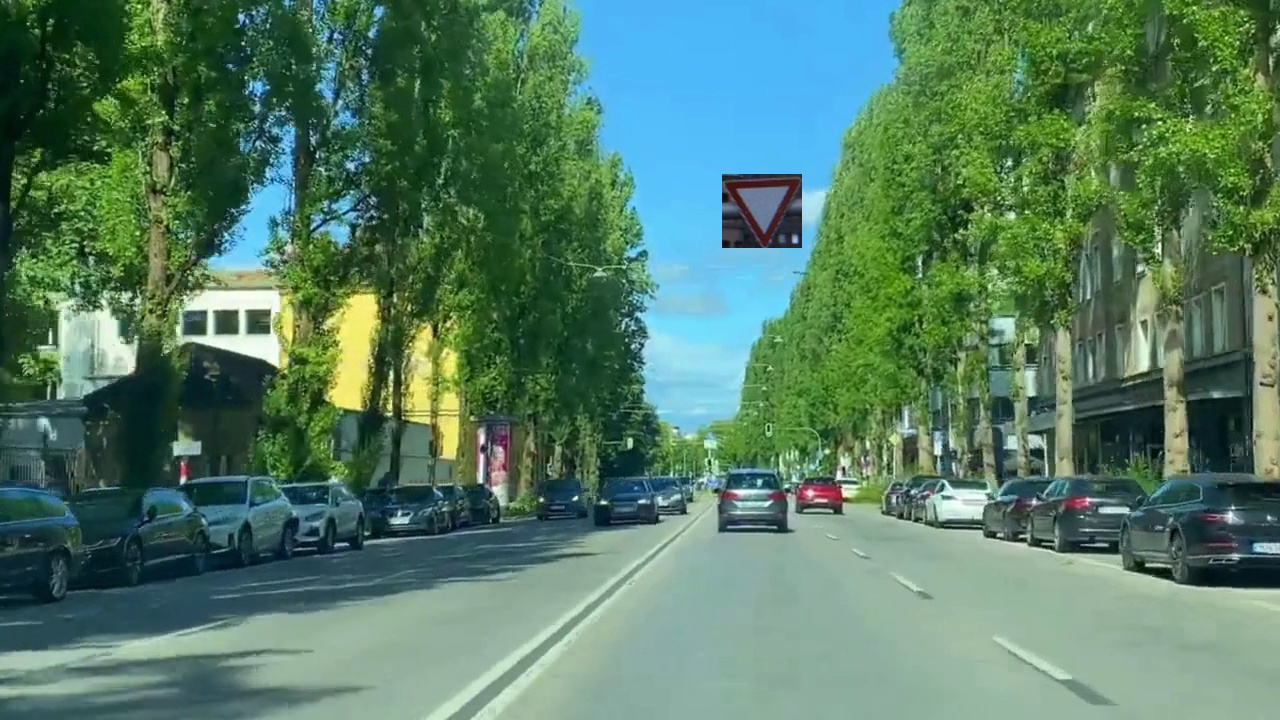Yield: (722, 174, 802, 248)
